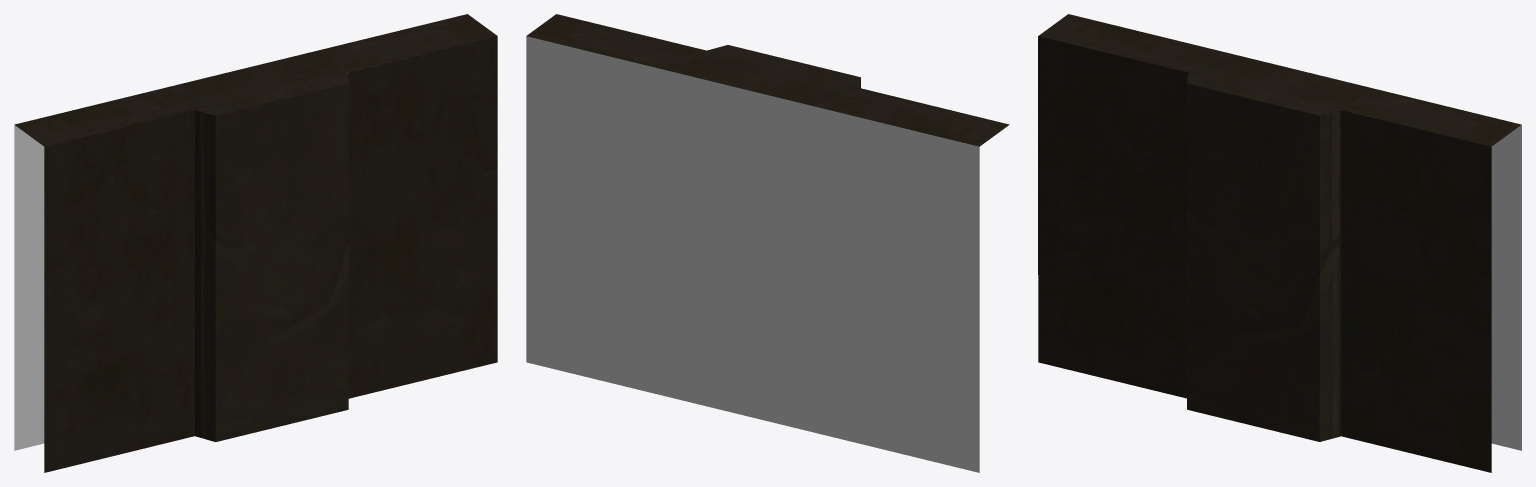
Rendered from fortress_half_straight_02.fbx.
3 views of the same model, side by side, from view 1: azimuth 30°, elevation 25°; view 2: azimuth 150°, elevation 25°; view 3: azimuth 330°, elevation 25° (orthographic).
Visible parts, largest first — view 1: fortress_half_straight_02-0; view 2: fortress_half_straight_02-0; view 3: fortress_half_straight_02-0.
Part boxes in pixels (<box>): fortress_half_straight_02-0: <box>14,14,497,472</box>; fortress_half_straight_02-0: <box>526,14,1009,472</box>; fortress_half_straight_02-0: <box>1038,14,1521,472</box>.
Size of the model in its own units: 4 by 2.75 by 0.6343.
